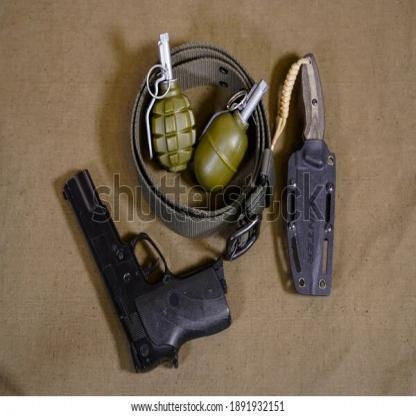Grenade: (194, 79, 269, 195), (146, 32, 198, 174)
Knife: (294, 52, 326, 292)
Pistol: (62, 167, 232, 375)
